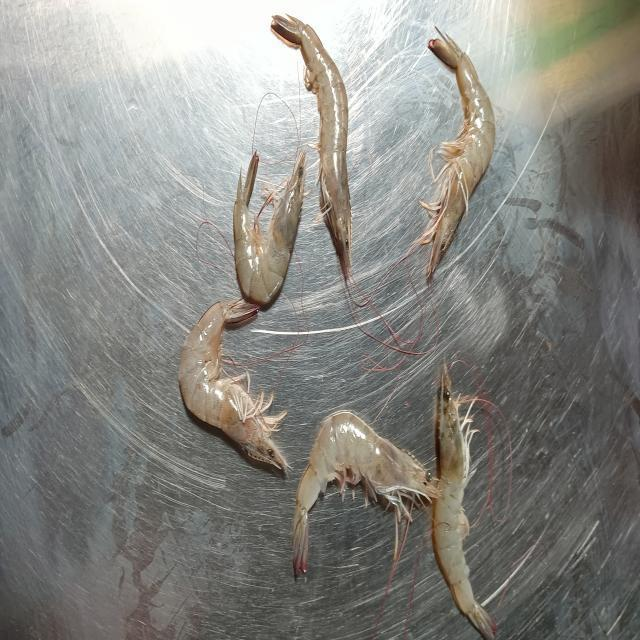shrimp: (291, 412, 438, 576), (271, 15, 351, 281), (179, 299, 288, 469), (420, 35, 495, 281), (432, 367, 496, 640), (234, 151, 306, 305)
